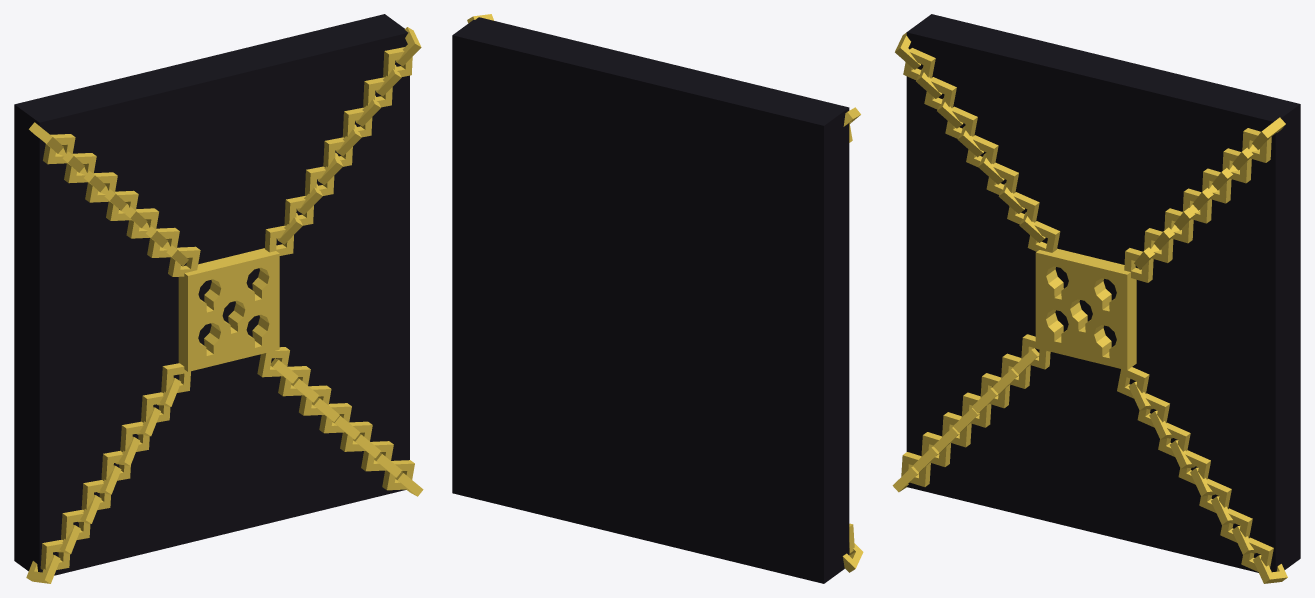
Rendered from puerta.fbx.
3 renders of one model, left to right at view 1: azimuth 30°, elevation 25°; view 2: azimuth 150°, elevation 25°; view 3: azimuth 330°, elevation 25°, orthographic.
Parts seen in each view (by area): view 1: Cubo, Cubo.002; view 2: Cubo, Cubo.002; view 3: Cubo, Cubo.002.
Boxes of the visible parts, x1,y1,x2,y2 form: Cubo: (14,14,409,575); Cubo.002: (26,27,423,583); Cubo: (452,17,849,583); Cubo.002: (467,14,863,572); Cubo: (906,14,1300,572); Cubo.002: (892,32,1287,583).
Bounding box in the file's own units: 187 × 214 × 29.07.
